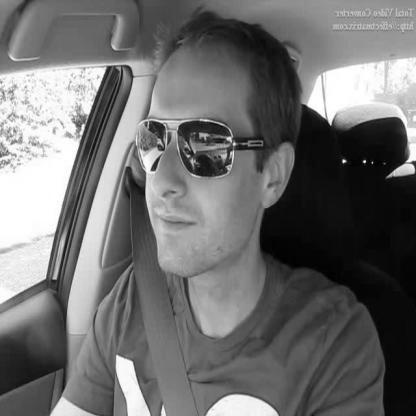seatbelt: (112, 0, 302, 416)
